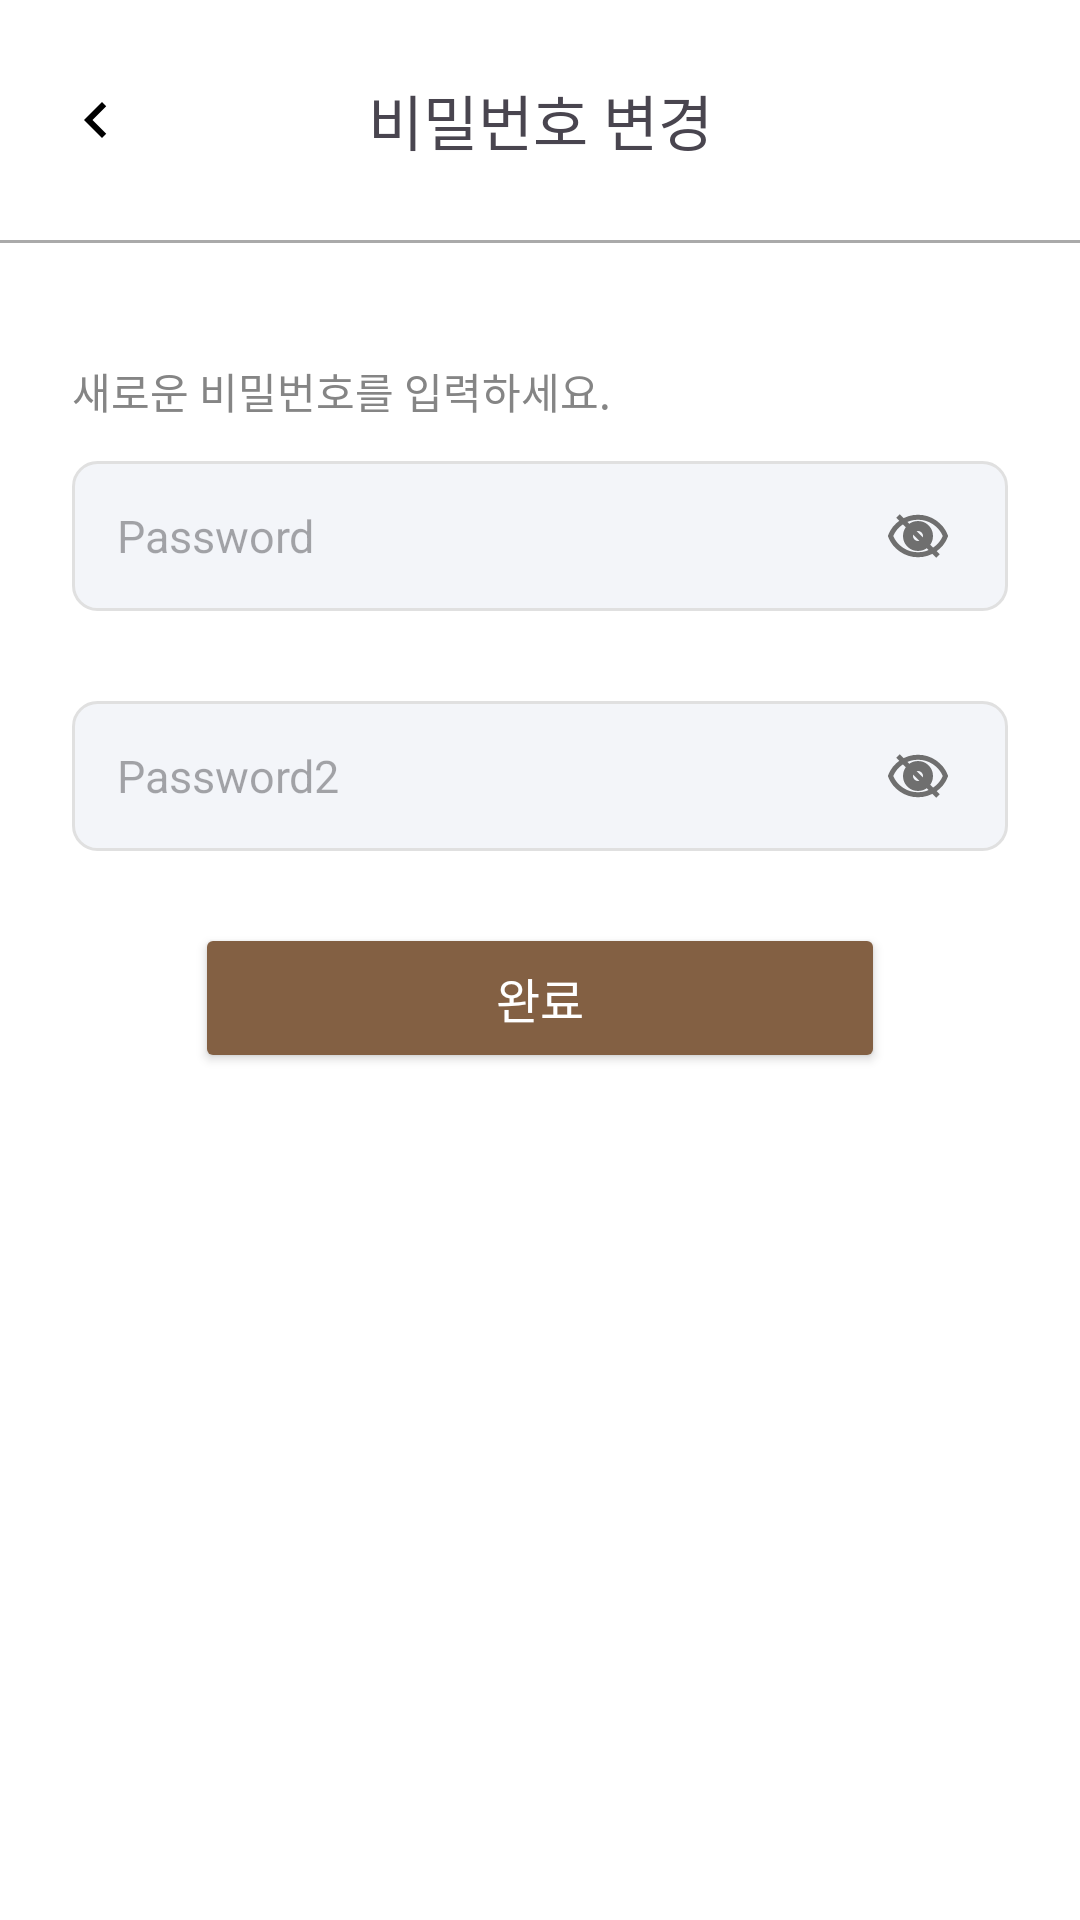

Screen size 1080 x 1920. Icon name, then its box in pixels as Rect(x1, y1, x2, y2):
back: Rect(84, 102, 106, 138)
